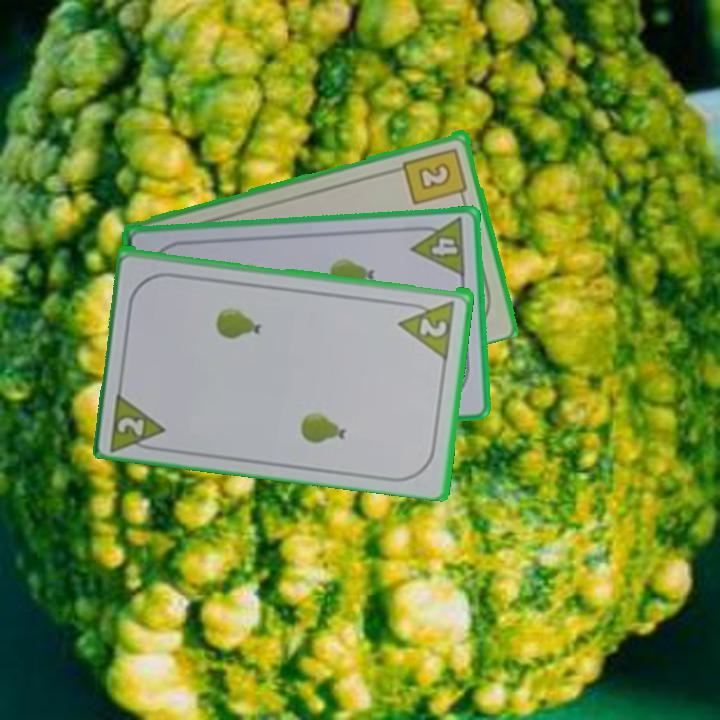2b: (400, 144, 471, 207)
2p: (106, 386, 169, 454), (396, 296, 459, 359)
4p: (407, 214, 469, 280)
